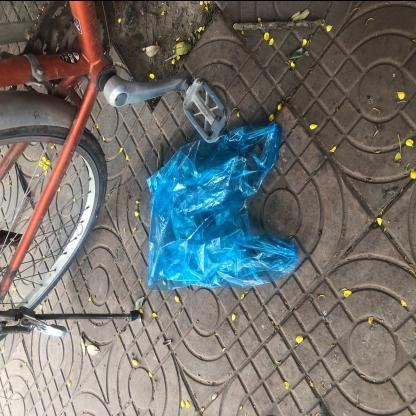plastik: (126, 146, 298, 300)
